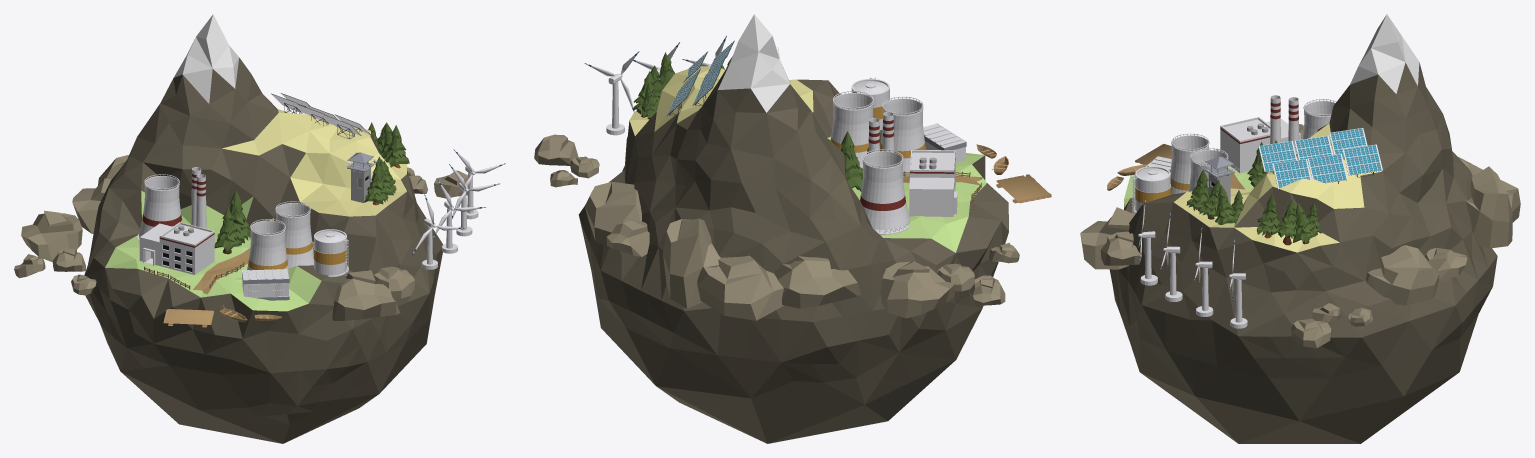
The model's file is surfScene3.glb.
The picture shows the model from 3 angles, left to right: view 1: azimuth 30°, elevation 25°; view 2: azimuth 150°, elevation 25°; view 3: azimuth 270°, elevation 25°; orthographic projection. The views are drawn at different scales.
Parts seen in each view (by area): view 1: island.001, Cube, Stone.010, Stone, Cube.002, Cube.009, Cube.010, Cylinder.012, Cube.017, Stone.008, Cube.008, Stone.009 (+14 smaller); view 2: island.001, Stone.007, Stone.005, Cube.002, Stone.008, Cube, Stone, Stone.003, Cube.009, Cube.010, Stone.004, Stone.002 (+9 smaller); view 3: island.001, Stone.003, Stone.005, Cube, Stone.010, Cube.010, Cylinder.012, Stone.009, Cylinder.001, Cube.001, Stone.002, Cube.006 (+19 smaller).
Part boxes in pixels (x1=…): island.001: x1=84, y1=14, x2=443, y2=443; Cube: x1=139, y1=222, x2=214, y2=274; Stone.010: x1=332, y1=270, x2=400, y2=320; Stone: x1=21, y1=210, x2=82, y2=261; Cube.002: x1=137, y1=174, x2=182, y2=241; Cube.009: x1=275, y1=201, x2=313, y2=268; Cube.010: x1=247, y1=219, x2=288, y2=271; Cylinder.012: x1=313, y1=229, x2=348, y2=277; Cube.017: x1=242, y1=269, x2=289, y2=300; Stone.008: x1=72, y1=178, x2=111, y2=233; Cube.008: x1=343, y1=152, x2=378, y2=202; Stone.009: x1=373, y1=266, x2=414, y2=298; island.001: x1=578, y1=14, x2=1008, y2=443; Stone.007: x1=697, y1=255, x2=783, y2=320; Stone.005: x1=663, y1=218, x2=720, y2=308; Cube.002: x1=860, y1=149, x2=909, y2=234; Stone.008: x1=774, y1=256, x2=860, y2=308; Cube: x1=909, y1=150, x2=957, y2=216; Stone: x1=880, y1=261, x2=955, y2=318; Stone.003: x1=584, y1=182, x2=641, y2=245; Cube.009: x1=830, y1=91, x2=873, y2=168; Cube.010: x1=880, y1=96, x2=926, y2=174; Stone.004: x1=606, y1=220, x2=649, y2=256; Stone.002: x1=534, y1=134, x2=578, y2=165; island.001: x1=1109, y1=14, x2=1497, y2=443; Stone.003: x1=1366, y1=245, x2=1439, y2=305; Stone.005: x1=1465, y1=166, x2=1512, y2=248; Cube: x1=1220, y1=117, x2=1300, y2=173; Stone.010: x1=1080, y1=207, x2=1134, y2=269; Cube.010: x1=1170, y1=133, x2=1209, y2=193; Cylinder.012: x1=1132, y1=166, x2=1170, y2=214; Stone.009: x1=1100, y1=231, x2=1141, y2=265; Cylinder.001: x1=1270, y1=95, x2=1299, y2=154; Cube.001: x1=1342, y1=144, x2=1382, y2=177; Stone.002: x1=1291, y1=318, x2=1331, y2=348; Cube.006: x1=1307, y1=154, x2=1347, y2=183.
Bounding box in the file's own units: 10.8 × 9.34 × 8.95.
